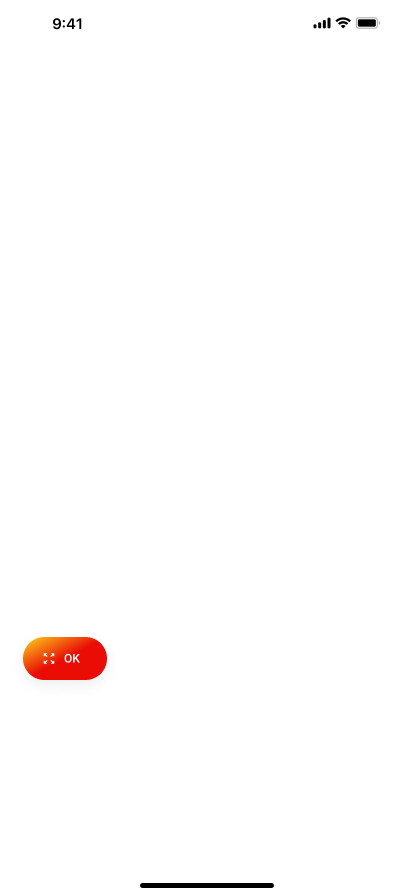Buttons: (8, 628, 122, 701)
Home Indicator: (0, 862, 414, 896)
Status Bar: (0, 0, 414, 44)
